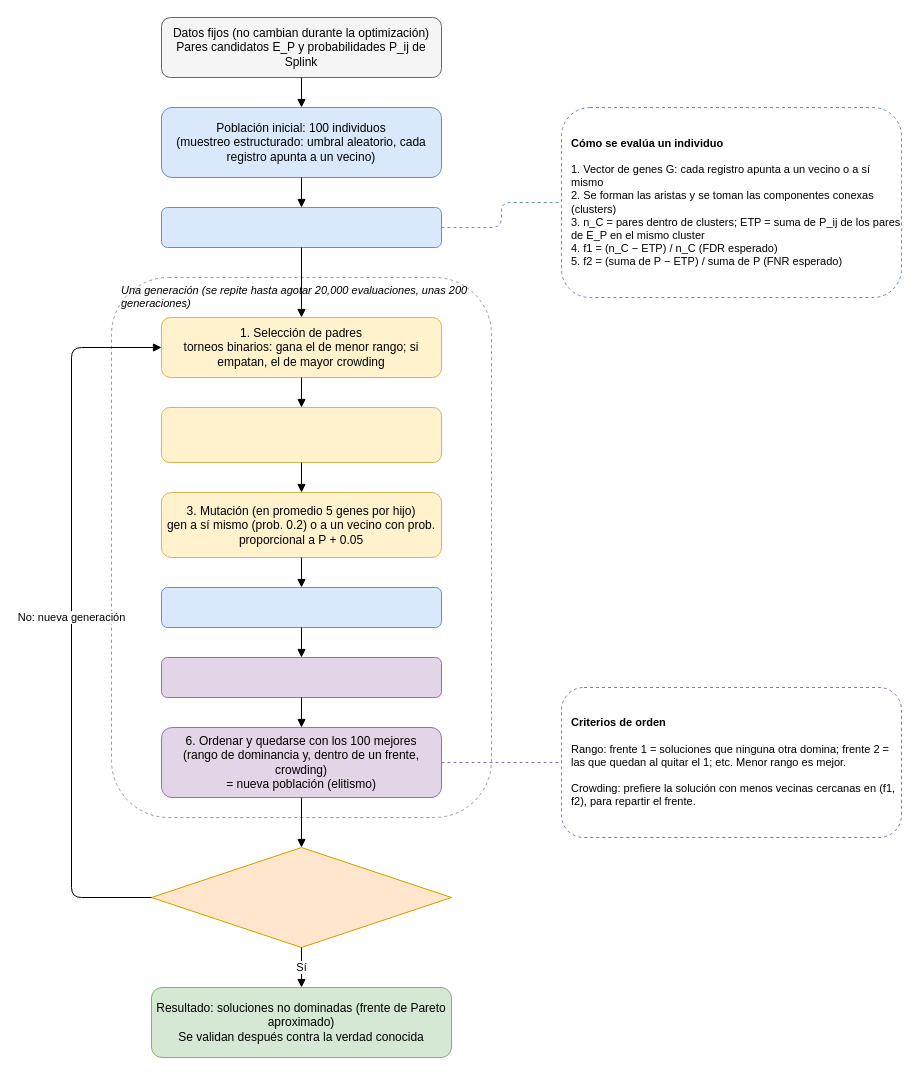
Some shapes in this 919 by 1075 pixel diagram are drawn without their labels. The centre of each missing label's shape, as x and y in pixels:
2. Cruza uniforme (prob. 0.9) cada gen viene de uno de los dos padres al azar: (301,434)
4. Evaluar los 100 hijos: (f1, f2): (301,607)
5. Unir padres e hijos (200 individuos): (301,677)
Evaluar cada individuo: (f1, f2): (301,227)
¿Se agotaron las 20,000 evaluaciones?: (301,897)
